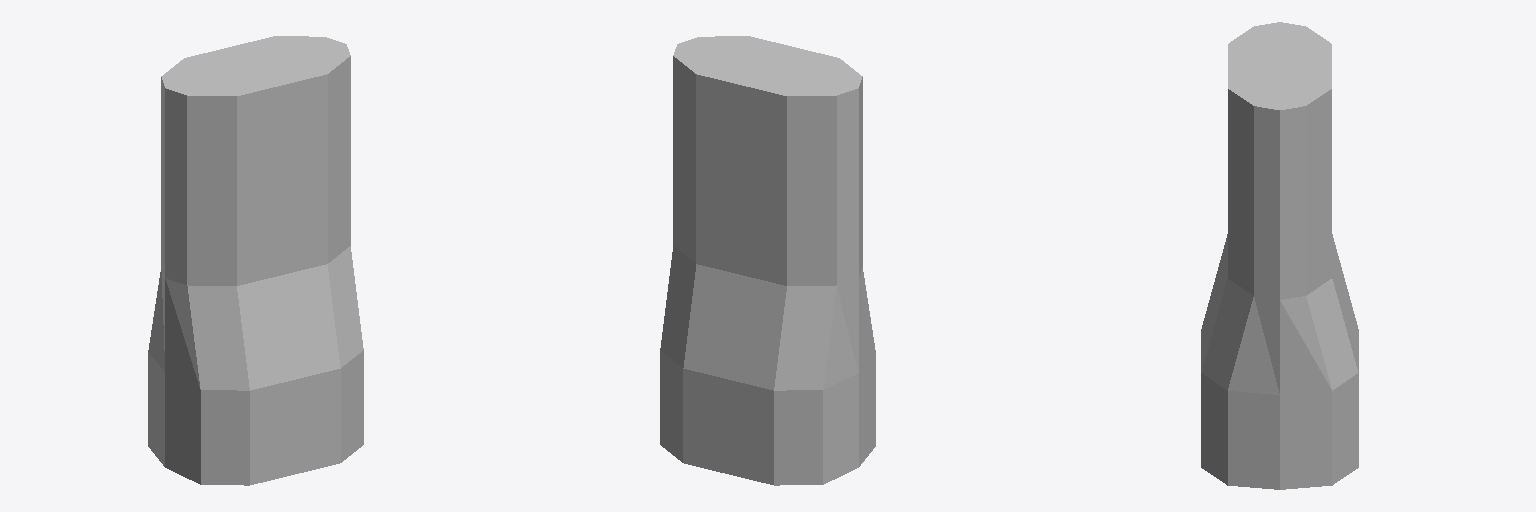
The model's file is shrine_1_001.obj.
3 views of the same model, side by side, from view 1: azimuth 30°, elevation 25°; view 2: azimuth 150°, elevation 25°; view 3: azimuth 270°, elevation 25° (orthographic).
Visible parts, largest first — view 1: Cube; view 2: Cube; view 3: Cube.
Boxes of the visible parts, box(x1,y1,x2,y2) form: Cube: box(148, 36, 363, 485); Cube: box(660, 36, 875, 485); Cube: box(1201, 22, 1358, 489).
Bounding box in the file's own units: 2 × 4 × 1.5.